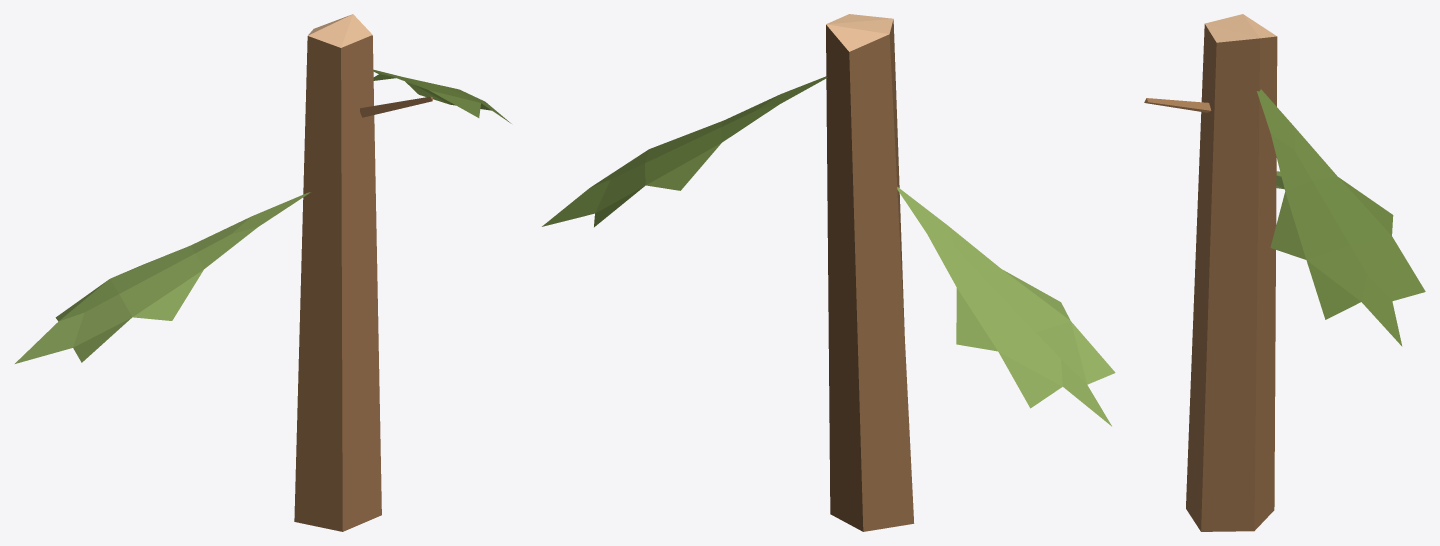
File: Dead_Pine_Tree_crk_l_03.fbx
The picture shows the model from 3 angles, left to right: view 1: azimuth 30°, elevation 25°; view 2: azimuth 150°, elevation 25°; view 3: azimuth 270°, elevation 25°; orthographic projection. The views are drawn at different scales.
Parts seen in each view (by area): view 1: Dead_Pine_Tree_crk_l_03; view 2: Dead_Pine_Tree_crk_l_03; view 3: Dead_Pine_Tree_crk_l_03.
Part boxes in pixels (x1,y1,x2,y2): Dead_Pine_Tree_crk_l_03: [15, 14, 511, 531]; Dead_Pine_Tree_crk_l_03: [542, 14, 1115, 531]; Dead_Pine_Tree_crk_l_03: [1144, 14, 1425, 531].
Size of the model in its own units: 463 by 410 by 212.
